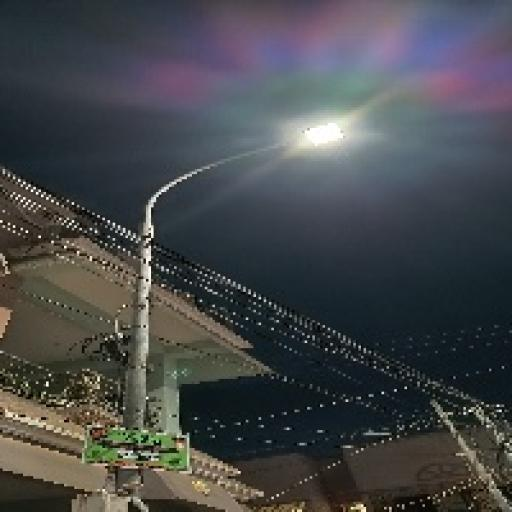Working: (283, 113, 359, 157)
